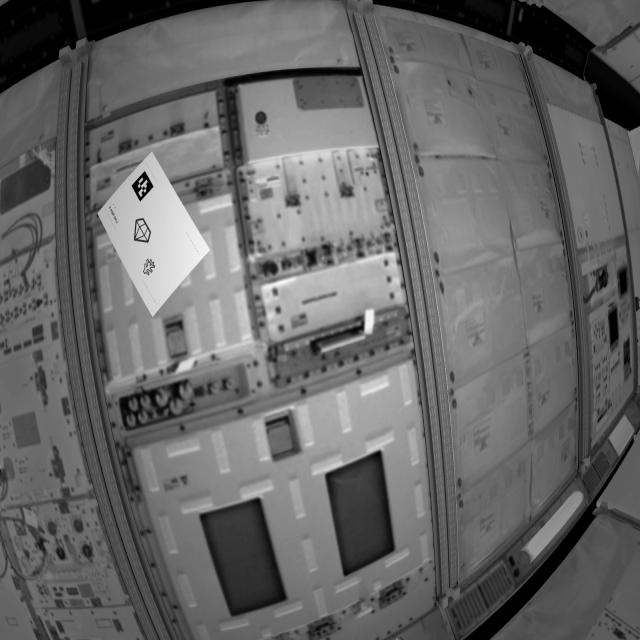coral: (137, 255, 159, 278)
diamond: (128, 219, 156, 250)
